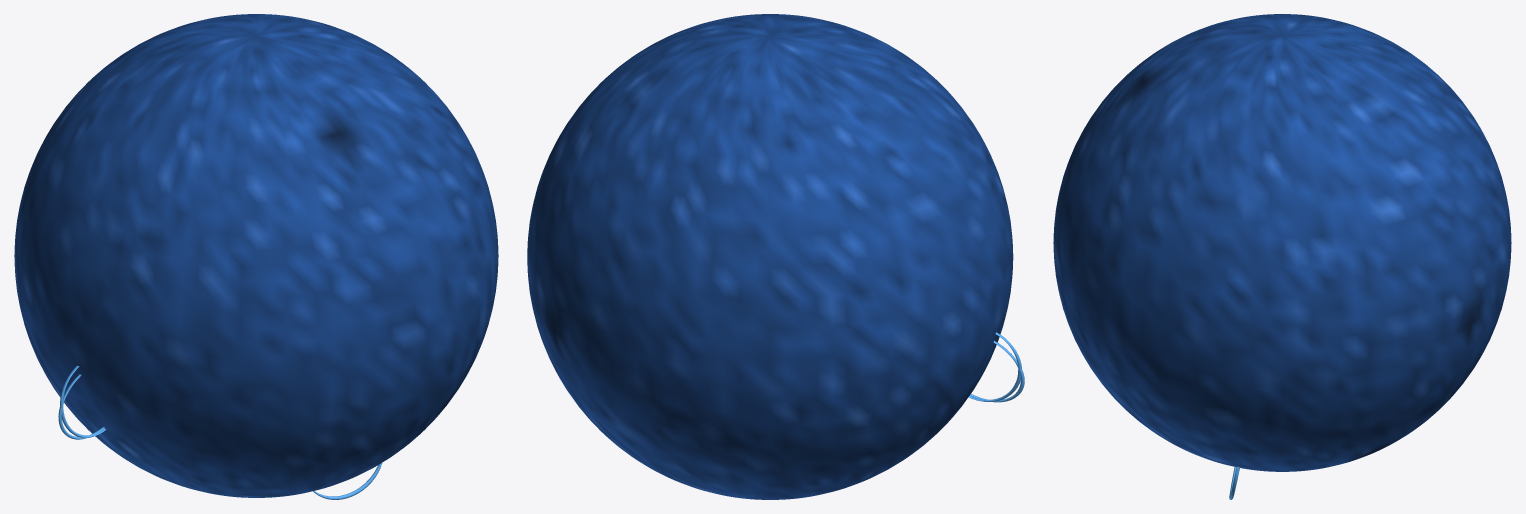
File: Star_17.fbx
3 views of the same model, side by side, from view 1: azimuth 30°, elevation 25°; view 2: azimuth 150°, elevation 25°; view 3: azimuth 270°, elevation 25° (orthographic). The views are drawn at different scales.
Parts seen in each view (by area): view 1: Star_17; view 2: Star_17; view 3: Star_17.
Boxes of the visible parts, box(x1,y1,x2,y2) form: Star_17: box(14, 14, 498, 499); Star_17: box(527, 14, 1024, 499); Star_17: box(1053, 14, 1511, 499).
Size of the model in its own units: 207 by 208 by 200.
